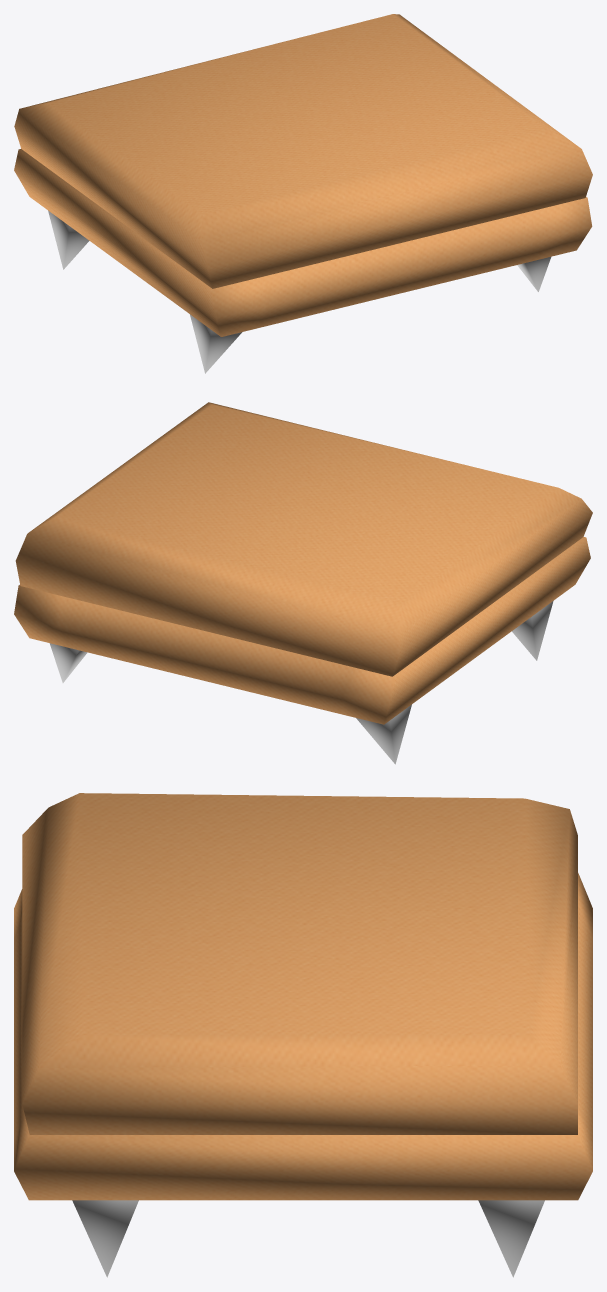
Rendered from Ottoman_A_13.FBX.
3 views of the same model, one above another, from view 1: azimuth 30°, elevation 25°; view 2: azimuth 150°, elevation 25°; view 3: azimuth 270°, elevation 25° (orthographic). The views are drawn at different scales.
Visible parts, largest first — view 1: Ottoman; view 2: Ottoman; view 3: Ottoman.
Boxes of the visible parts, <box> form: Ottoman: <box>14,14,592,373</box>; Ottoman: <box>14,402,592,764</box>; Ottoman: <box>14,793,592,1277</box>.
Size of the model in its own units: 190 by 80.28 by 173.
